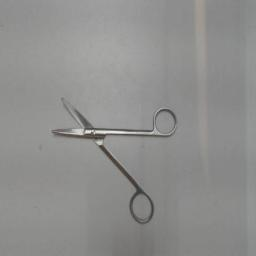Curved Mayo Scissors: (48, 95, 180, 227)
